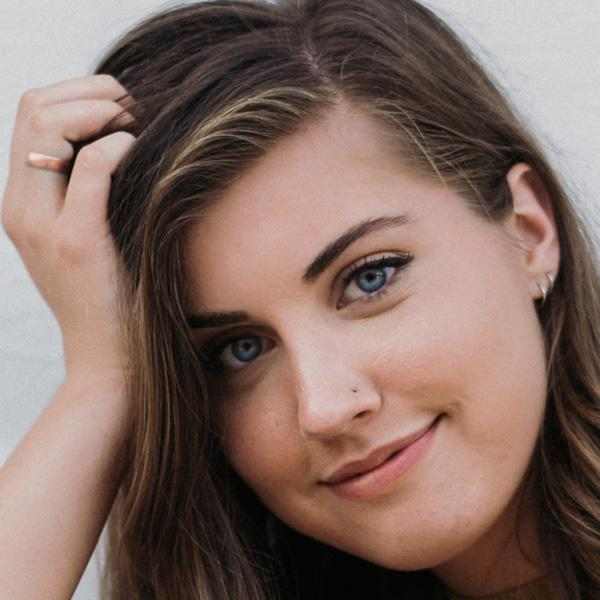Eyes: (329, 239, 421, 317), (202, 319, 285, 382)
